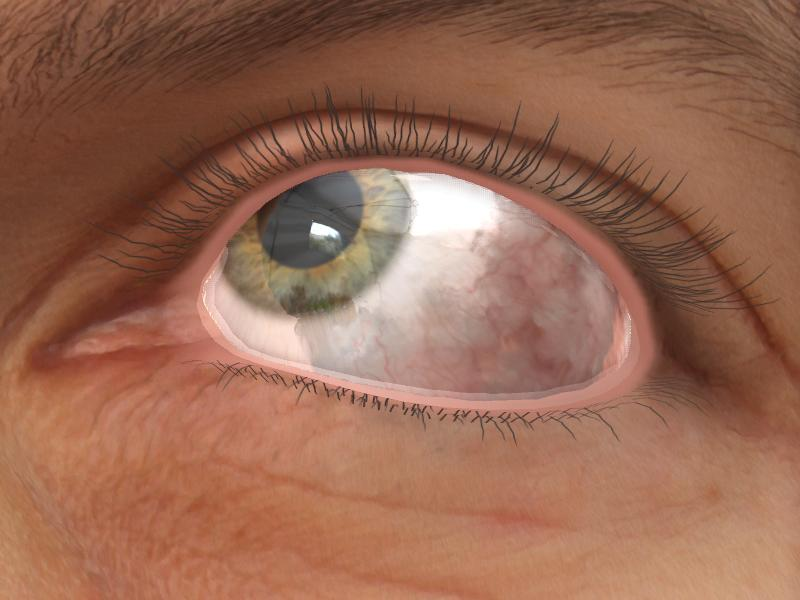eye: (222, 166, 415, 320)
